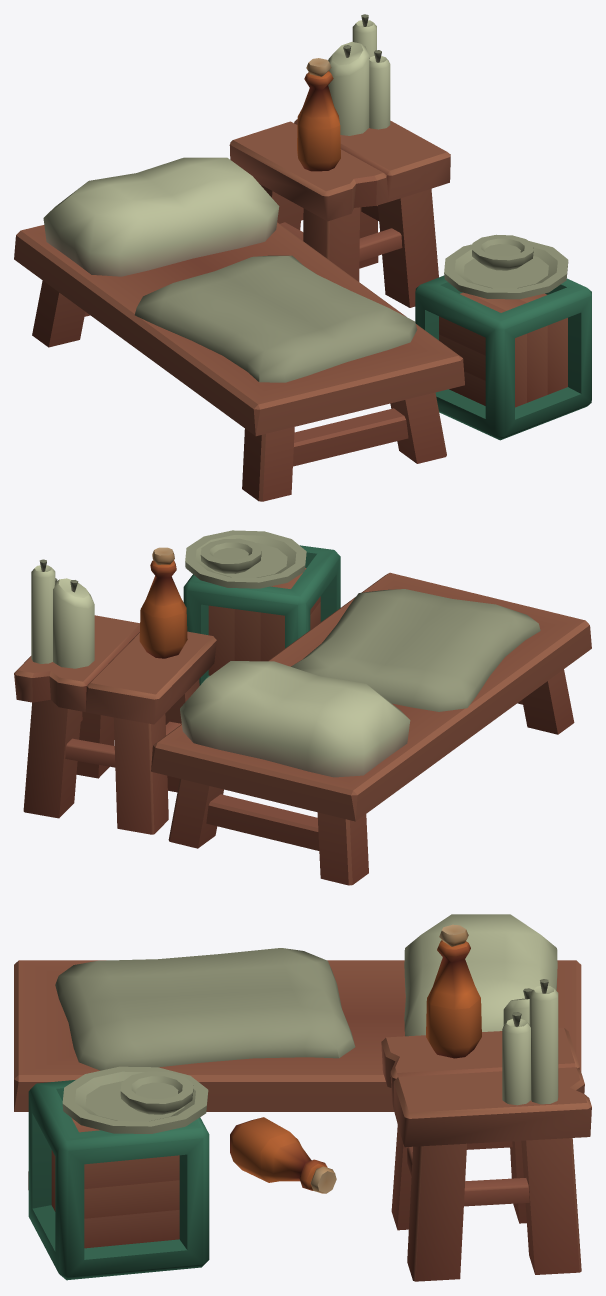
Rendered from bed-elf.glb.
3 renders of one model, top to bottom at view 1: azimuth 30°, elevation 25°; view 2: azimuth 150°, elevation 25°; view 3: azimuth 270°, elevation 25°, orthographic. The views are drawn at different scales.
Visible parts, largest first — view 1: bed-elf; view 2: bed-elf; view 3: bed-elf.
Boxes of the visible parts, x1,y1,x2,y2 form: bed-elf: (14, 14, 591, 501); bed-elf: (14, 530, 591, 885); bed-elf: (14, 914, 591, 1281).
Bounding box in the file's own units: 2.61 × 1.7 × 3.06.
